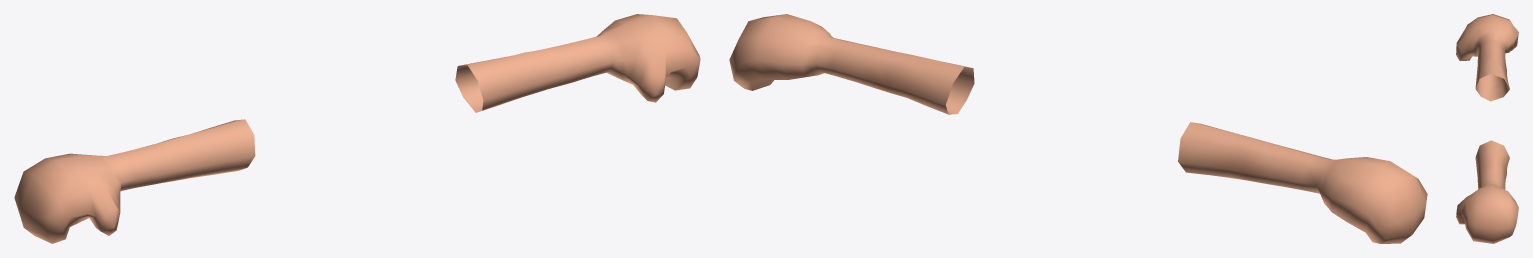
File: Body_Yellow_ArmA_1.fbx
3 views of the same model, side by side, from view 1: azimuth 30°, elevation 25°; view 2: azimuth 150°, elevation 25°; view 3: azimuth 270°, elevation 25° (orthographic). The views are drawn at different scales.
Parts seen in each view (by area): view 1: Body_Yellow_ArmA_1; view 2: Body_Yellow_ArmA_1; view 3: Body_Yellow_ArmA_1.
Boxes of the visible parts, x1,y1,x2,y2 form: Body_Yellow_ArmA_1: [14, 14, 700, 243]; Body_Yellow_ArmA_1: [729, 14, 1427, 243]; Body_Yellow_ArmA_1: [1456, 14, 1518, 243].
Bounding box in the file's own units: 130 × 13.15 × 17.22.
